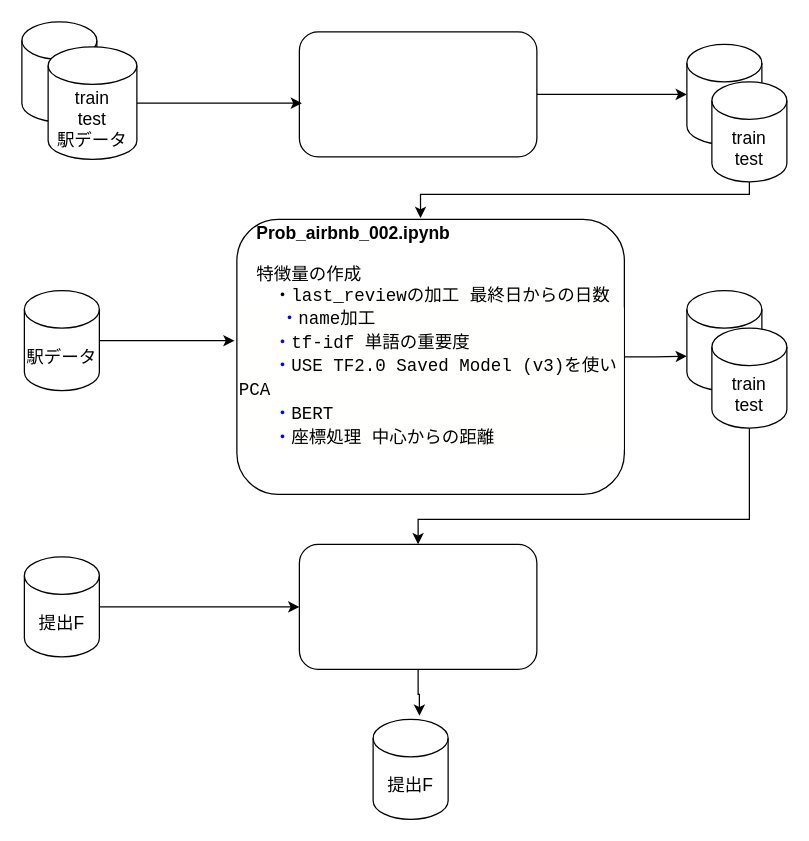
The diagram is 809 pixels wide and 841 high, and some of its shapes have lost their labels. The box of each missing label's shape, as (x1, y1, x2, y2) in pixels:
Prob_airbnb_001.ipynb 民宿と駅との距離の測定: (298, 31, 537, 157)
Prob_airbnb_015.ipynb LightGBM: (298, 543, 537, 669)
